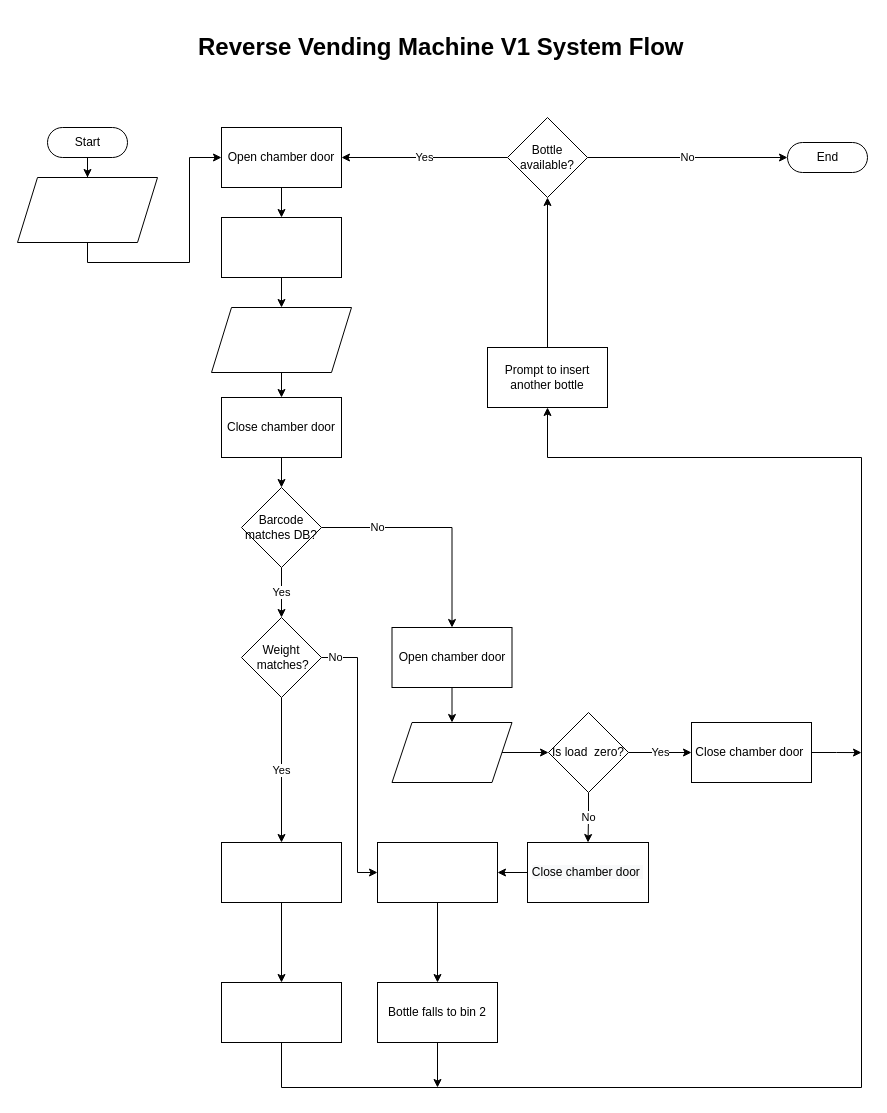
Some shapes in this 887 by 1113 pixel diagram are drawn without their labels. Here are the shapes that lost their labels. From the top down, the centre of each, then its label:
At point (87, 209): "User inserts phone number".
At point (281, 247): "Prompt user to insert a bottle".
At point (281, 339): "User inserts bottle".
At point (451, 752): "Prompt user to remove bottle and start timer".
At point (281, 872): "Set actuator direction to 1".
At point (437, 872): "Set actuator direction to 2".
At point (281, 1012): "Bottle falls to bin 1".
